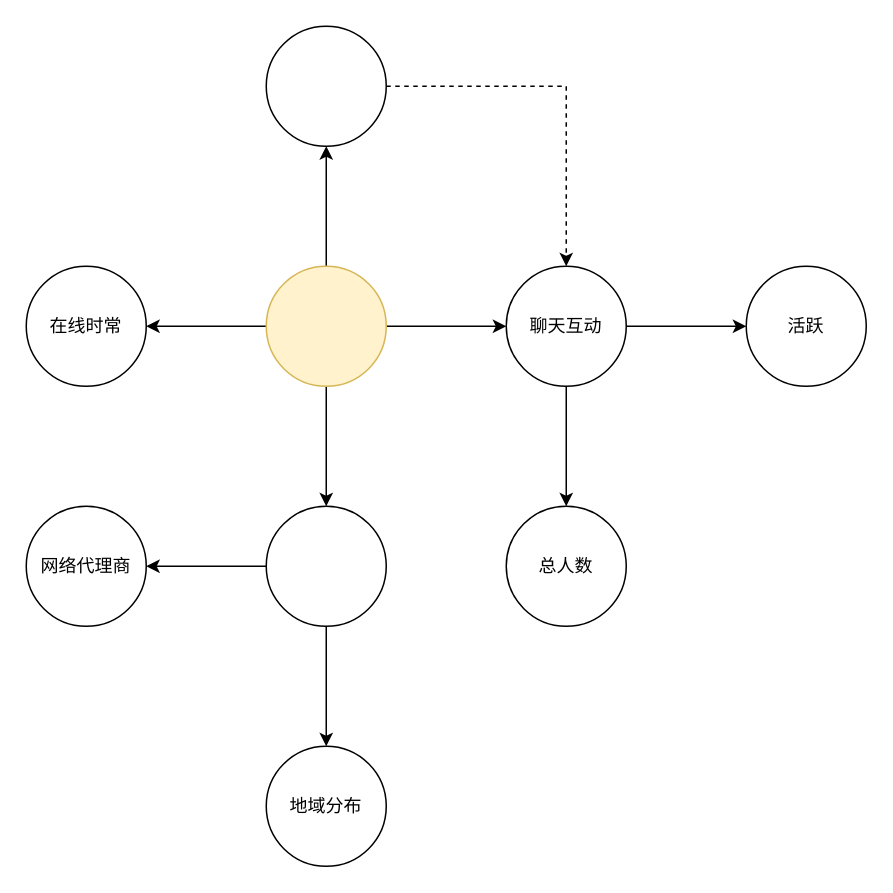
This 893x893 diagram has some shape labels left out. Each missing label, with the centre of its shape:
IRC: point 325,325
其他纬度: point 325,565
单讲座: point 325,85
